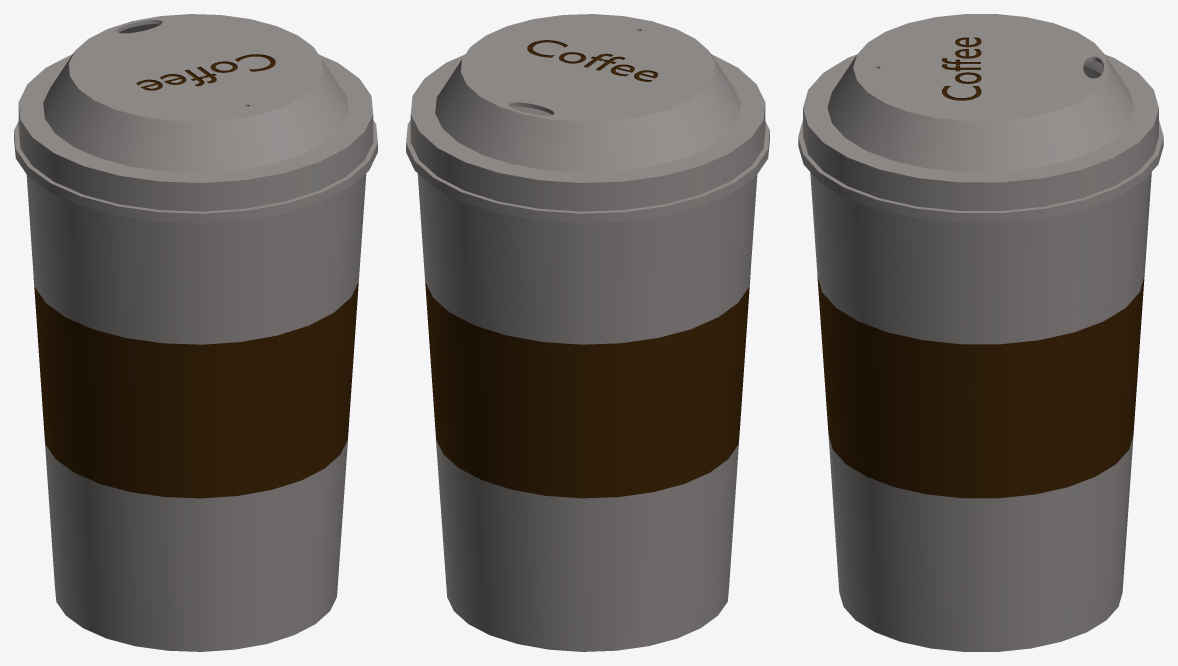
Rendered from base_coffee_cup_draco.glb.
3 renders of one model, left to right at view 1: azimuth 30°, elevation 25°; view 2: azimuth 150°, elevation 25°; view 3: azimuth 270°, elevation 25°, orthographic.
Visible parts, largest first — view 1: Base, Cap; view 2: Base, Cap; view 3: Base, Cap.
Part boxes in pixels (x1,y1,x2,y2): Base: (26,173,366,651); Cap: (14,14,377,223); Base: (417,106,757,651); Cap: (406,14,769,223); Base: (810,66,1151,651); Cap: (798,14,1163,222).
Size of the model in its own units: 2.33 by 3.73 by 2.35.
